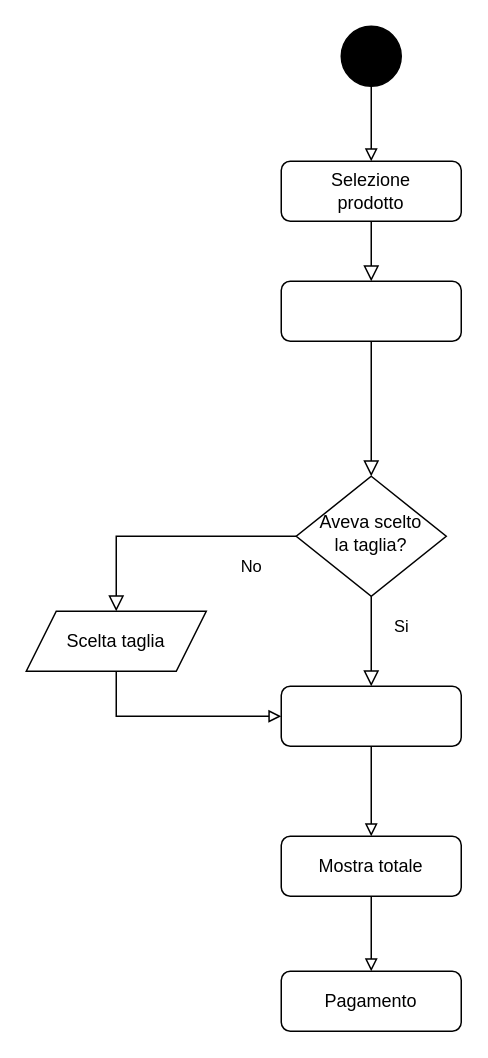
The diagram is 488 pixels wide and 1058 high, and some of its shapes have lost their labels. Here are the shapes that lost their labels. From the top down, the centre of each, then its label:
At point 370,310: "Compra".
At point 370,715: "Avanti".
